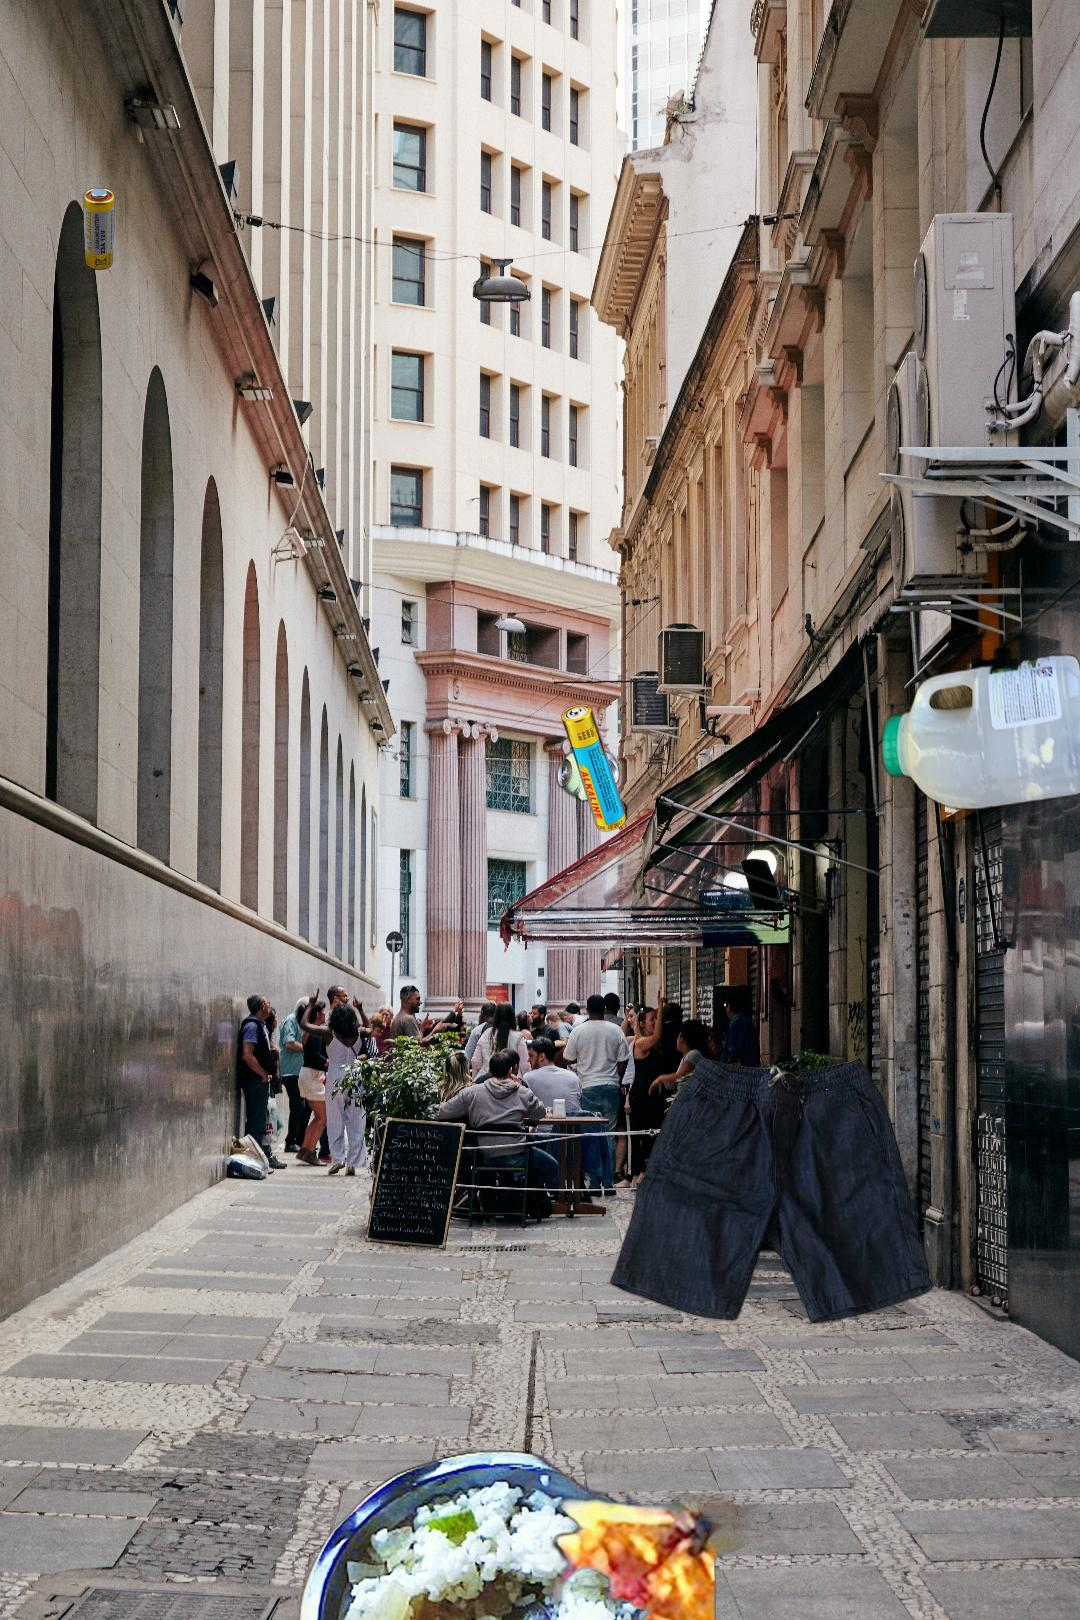battery: (559, 702, 629, 834), (80, 184, 118, 272)
biological: (282, 1446, 682, 1620)
clothes: (586, 1052, 937, 1404)
metal-cans: (552, 412, 863, 1094)
paper-bag: (533, 1493, 833, 1620)
plastic-bottles: (876, 648, 1080, 816)
